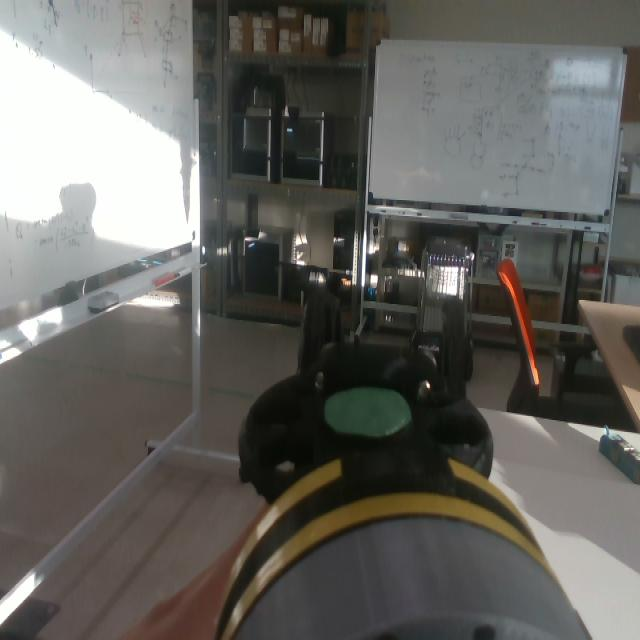body_connector: (240, 517, 589, 640)
connection: (212, 453, 593, 640)
leg: (212, 287, 556, 640)
leg_connector: (206, 452, 551, 640)
marker: (326, 388, 414, 436)
